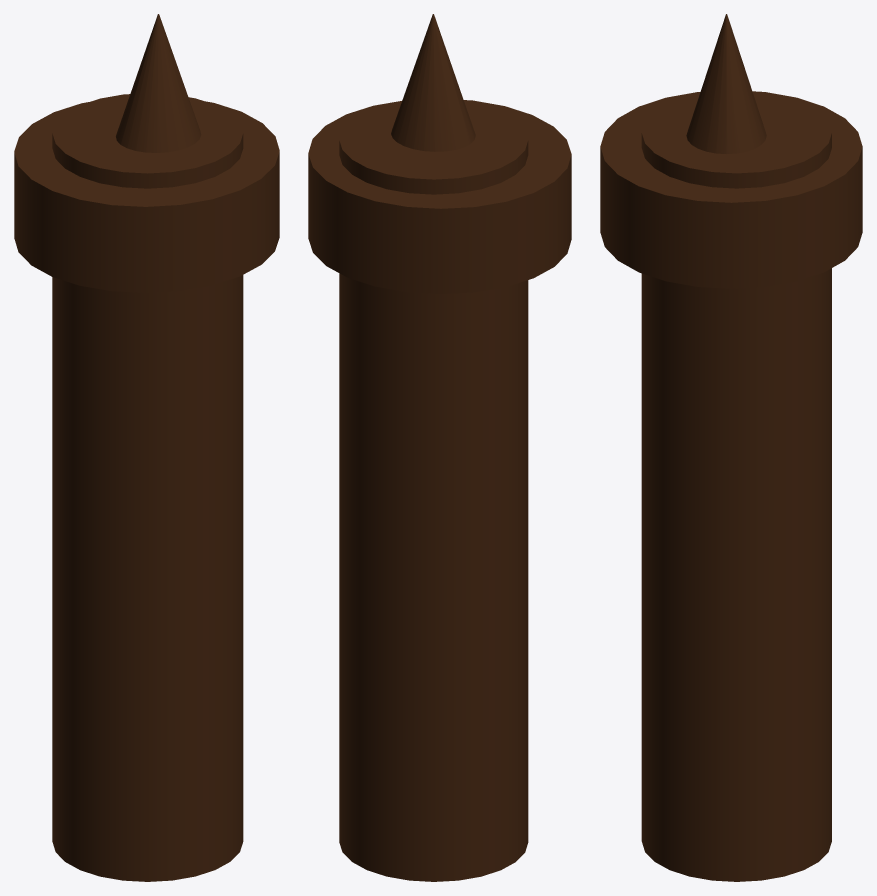
File: Torches.fbx
The picture shows the model from 3 angles, left to right: view 1: azimuth 30°, elevation 25°; view 2: azimuth 150°, elevation 25°; view 3: azimuth 270°, elevation 25°; orthographic projection.
Visible parts, largest first — view 1: cylinder (×2), cone; view 2: cylinder (×2), cone; view 3: cylinder (×2), cone.
Boxes of the visible parts, left/top/right/bottom form: cylinder (×2): left=14, top=94, right=279, bottom=881; cone: left=116, top=14, right=201, bottom=152; cylinder (×2): left=308, top=100, right=571, bottom=881; cone: left=391, top=14, right=475, bottom=151; cylinder (×2): left=600, top=91, right=862, bottom=881; cone: left=686, top=14, right=766, bottom=153.
Bounding box in the file's own units: 2.39 × 8.2 × 2.35.
